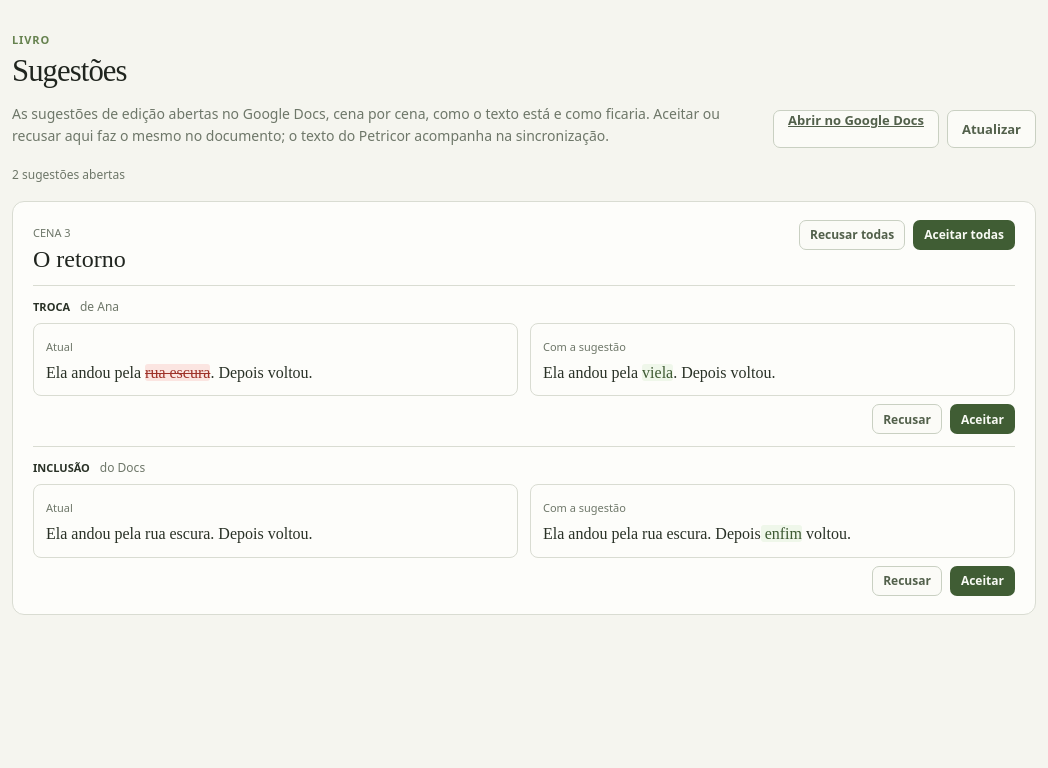
Test: SuggestionsPage with a linked Google Doc › decides a replacement’s two parts together, syncs, then lists what is still open
Click the 1st button "Aceitar" at (982, 419), box [950, 404, 1015, 434]
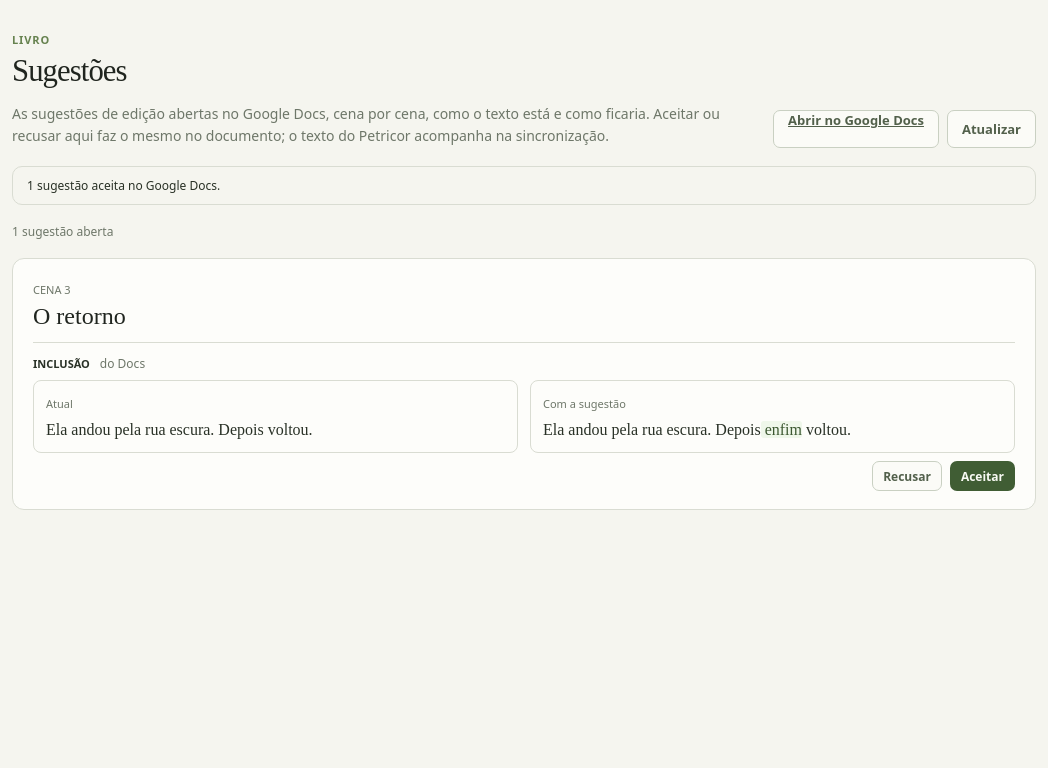
Check: the message reads "1 sugestão aceita no Google Docs.", box [27, 177, 220, 194]
Check: the number of buttons "Aceitar" is 1, box [950, 461, 1015, 491]
